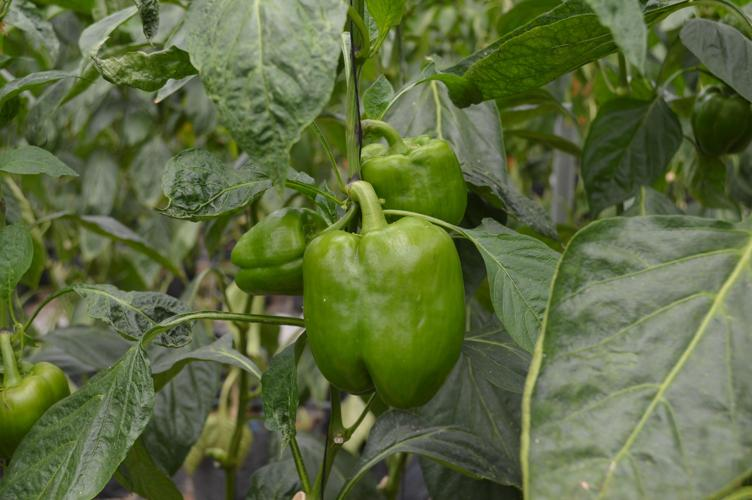BellPepper: (302, 219, 466, 403), (357, 132, 466, 222), (227, 207, 304, 300), (2, 362, 69, 451), (680, 86, 750, 164)
